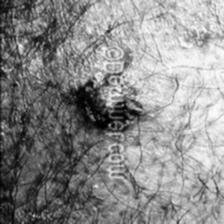Toxin: (77, 78, 119, 122)
